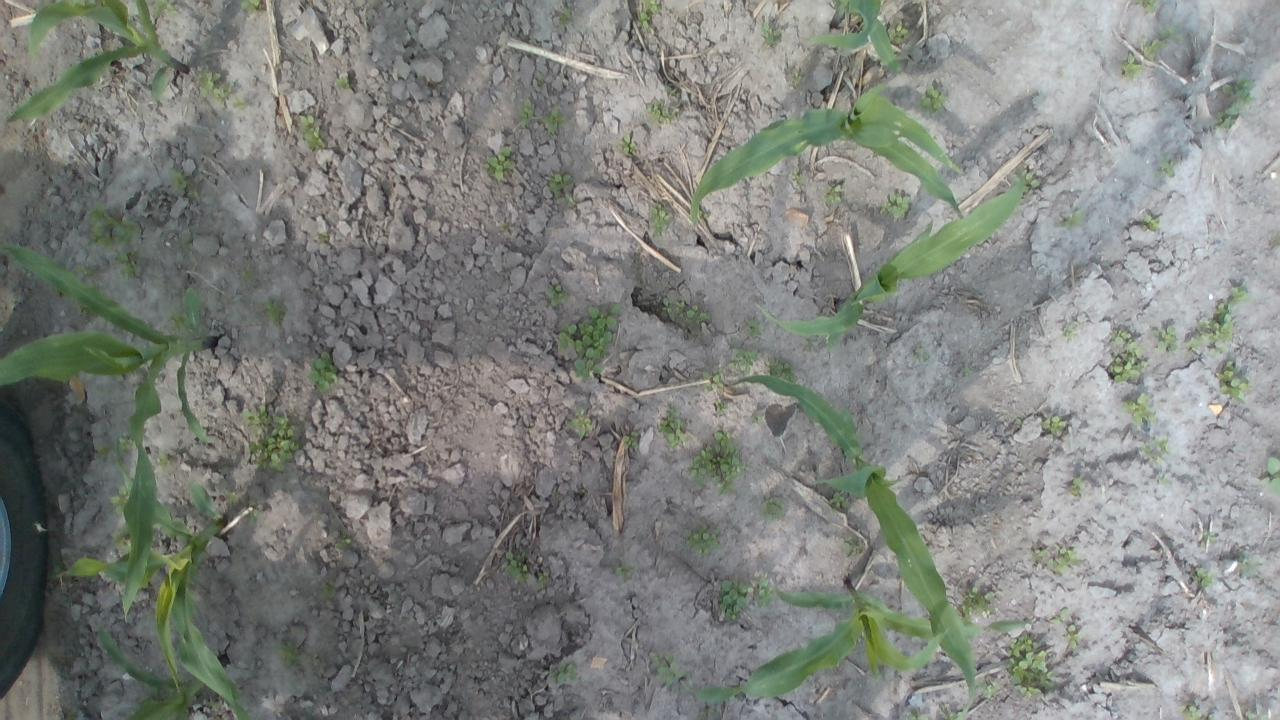Maize: (725, 373, 977, 720), (0, 237, 219, 618), (59, 454, 249, 720), (681, 572, 1032, 708), (753, 172, 1024, 344), (690, 81, 966, 223), (3, 0, 190, 133), (89, 624, 227, 720), (796, 0, 908, 76)
Weeds: (240, 407, 302, 474), (687, 430, 746, 497), (574, 301, 618, 379), (1008, 633, 1054, 697), (86, 200, 142, 248), (1185, 302, 1233, 356), (1214, 77, 1254, 130), (1108, 342, 1148, 384), (719, 579, 756, 624), (1031, 544, 1080, 576), (1216, 358, 1248, 402), (656, 405, 688, 447), (658, 297, 712, 321), (307, 351, 338, 392), (650, 653, 686, 687), (1121, 391, 1156, 424), (961, 584, 994, 618), (193, 66, 230, 96), (503, 551, 533, 585), (547, 174, 576, 209), (486, 146, 514, 182), (116, 249, 146, 282), (685, 528, 723, 554), (766, 354, 798, 384), (298, 114, 324, 150), (882, 192, 914, 221), (274, 638, 304, 668), (1137, 435, 1168, 464), (916, 86, 946, 115), (728, 348, 759, 375), (568, 409, 596, 437), (1260, 457, 1280, 496), (648, 203, 674, 232), (1152, 326, 1178, 354), (803, 334, 841, 352), (760, 496, 786, 521), (1040, 414, 1068, 437), (1193, 566, 1219, 590), (110, 526, 132, 554), (645, 102, 673, 124), (1120, 52, 1142, 80), (1056, 207, 1083, 229), (546, 276, 566, 305), (144, 0, 178, 17), (518, 96, 536, 128), (760, 22, 784, 46), (166, 308, 188, 334), (108, 484, 128, 512), (886, 22, 914, 42), (556, 323, 576, 351), (169, 168, 190, 194), (756, 578, 774, 608), (544, 110, 564, 136), (1020, 172, 1042, 194), (1178, 702, 1204, 720), (701, 370, 722, 392), (142, 682, 162, 704), (824, 183, 844, 205), (559, 662, 579, 684), (263, 302, 286, 320), (1228, 284, 1248, 304), (1142, 39, 1160, 61), (1158, 157, 1176, 179), (1132, 0, 1160, 14), (974, 681, 997, 698), (1108, 328, 1132, 344), (116, 436, 138, 453), (72, 301, 92, 319), (1142, 214, 1162, 232), (1238, 554, 1258, 572), (622, 430, 640, 449), (1065, 624, 1079, 648), (238, 0, 262, 14), (744, 318, 762, 336), (1158, 25, 1177, 42), (620, 134, 636, 154), (177, 237, 194, 255), (638, 10, 652, 30), (642, 0, 662, 14), (844, 537, 860, 554), (231, 98, 248, 114), (829, 490, 845, 507), (223, 489, 237, 507), (333, 536, 354, 548), (318, 584, 336, 598), (74, 264, 95, 276), (559, 7, 573, 25), (1051, 608, 1066, 624), (915, 346, 929, 363), (790, 170, 806, 184), (1070, 479, 1083, 496), (714, 399, 726, 417), (1201, 531, 1217, 543), (334, 76, 348, 89), (1064, 325, 1078, 338), (94, 441, 104, 459), (246, 509, 258, 524), (240, 268, 256, 278), (946, 710, 962, 720), (910, 713, 930, 720), (754, 415, 766, 426), (697, 209, 710, 219), (1246, 712, 1260, 720), (960, 366, 974, 374), (499, 223, 509, 234), (616, 566, 626, 577), (1157, 476, 1169, 485), (158, 454, 168, 464), (1016, 416, 1026, 426), (318, 233, 328, 241), (792, 72, 801, 80), (537, 576, 545, 584), (208, 702, 218, 708)
